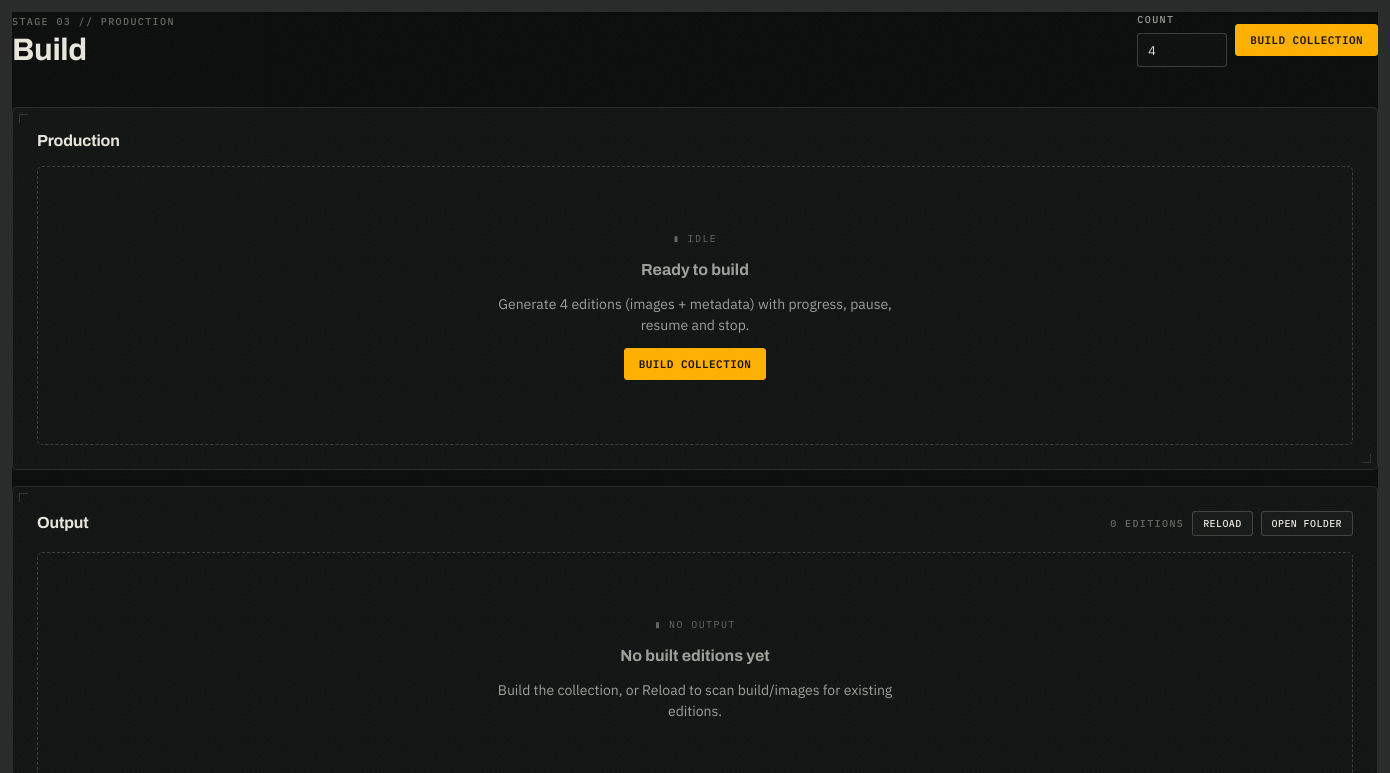
BuildScreen › reflects live build progress events
The width and height of the screenshot is (1390, 773).
expect the text "Ready to build" is shown: met, box x1=641 y1=258 x2=749 y2=282
What coordinates should you click on to do the following:
click the button "Build collection" next to "Count"
I would click on:
 (1307, 40)
Its box is x1=1235 y1=24 x2=1378 y2=56.
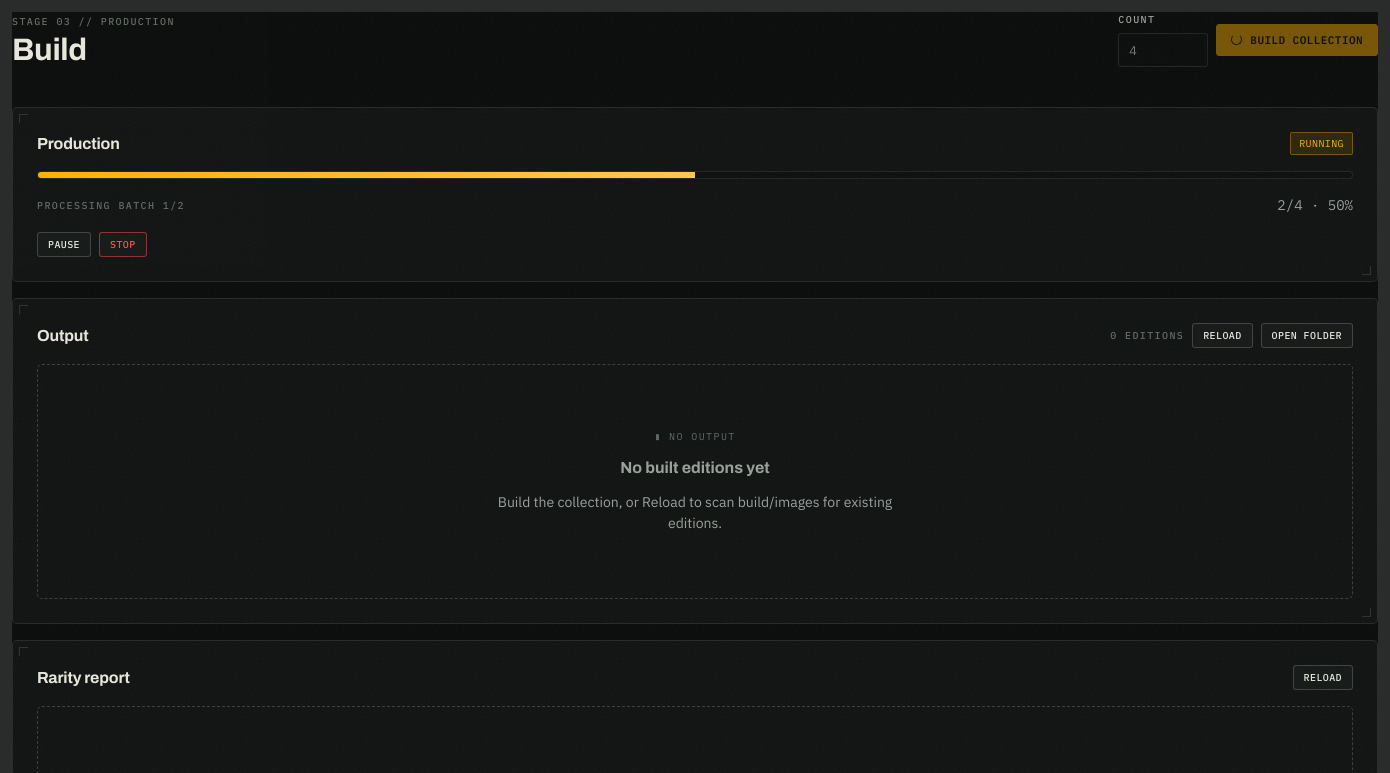
expect the text "Processing batch 1/2" is shown: met, box x1=37 y1=198 x2=185 y2=213
expect the text "2/4 · 50%" is shown: met, box x1=1277 y1=195 x2=1353 y2=216
